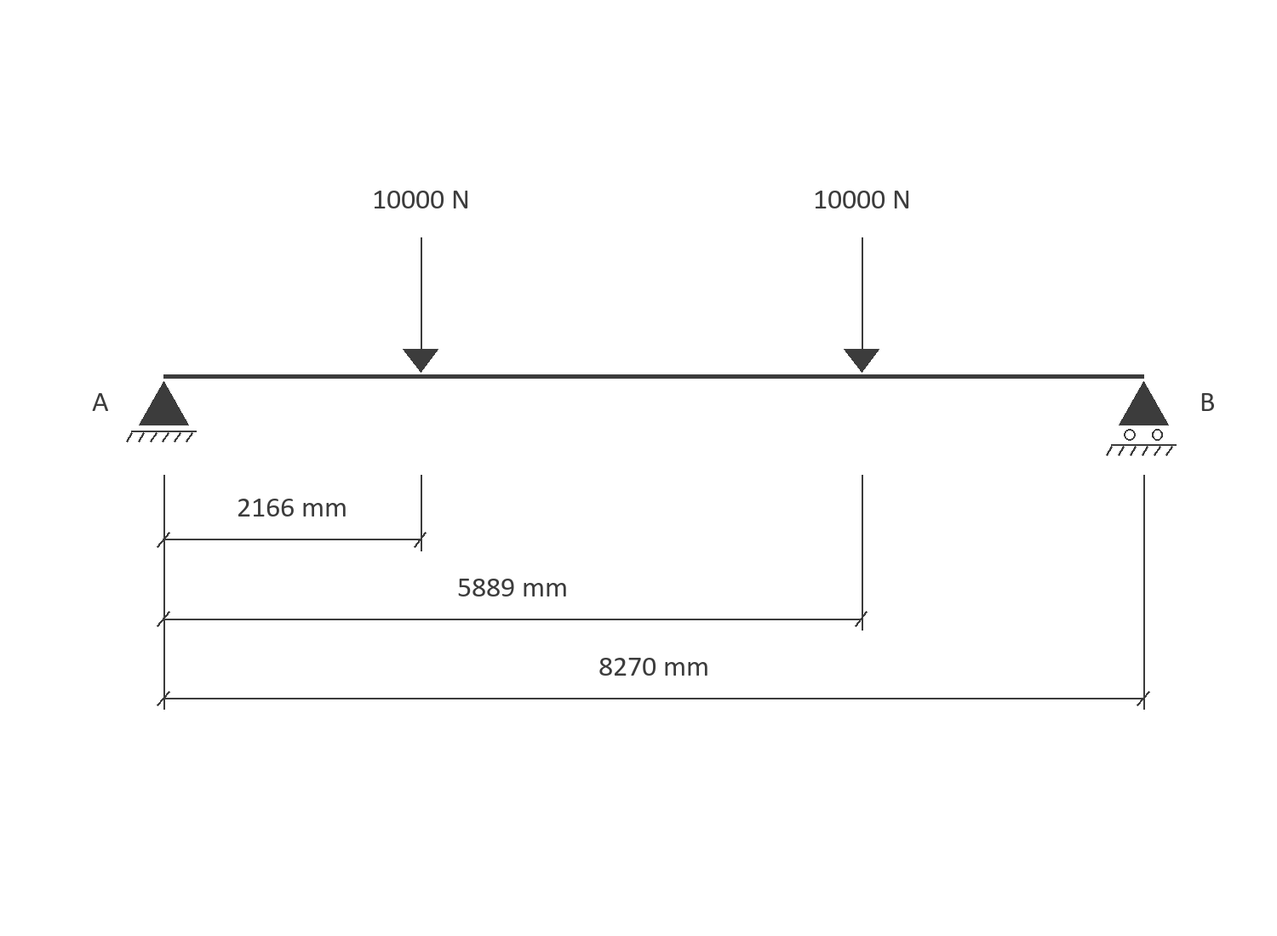pin_support: (126, 381, 197, 442)
point_load: (403, 237, 438, 373), (844, 237, 879, 373)
roller_support: (1106, 381, 1177, 456)
